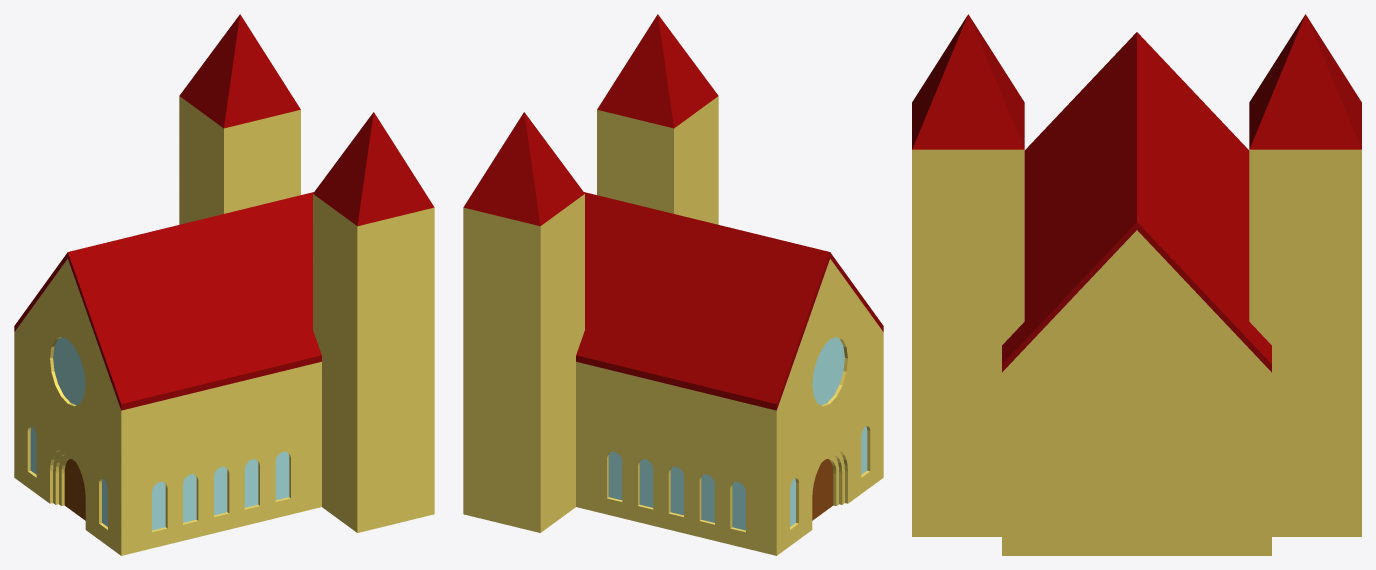
Rendered from church2.fbx.
3 renders of one model, left to right at view 1: azimuth 30°, elevation 25°; view 2: azimuth 150°, elevation 25°; view 3: azimuth 270°, elevation 25°, orthographic. The views are drawn at different scales.
Visible parts, largest first — view 1: Church2; view 2: Church2; view 3: Church2.
Part boxes in pixels (x1,y1,x2,y2): Church2: (14,14,434,555); Church2: (463,14,883,555); Church2: (912,14,1361,555).
Size of the model in its own units: 3000 by 3675 by 3000.
